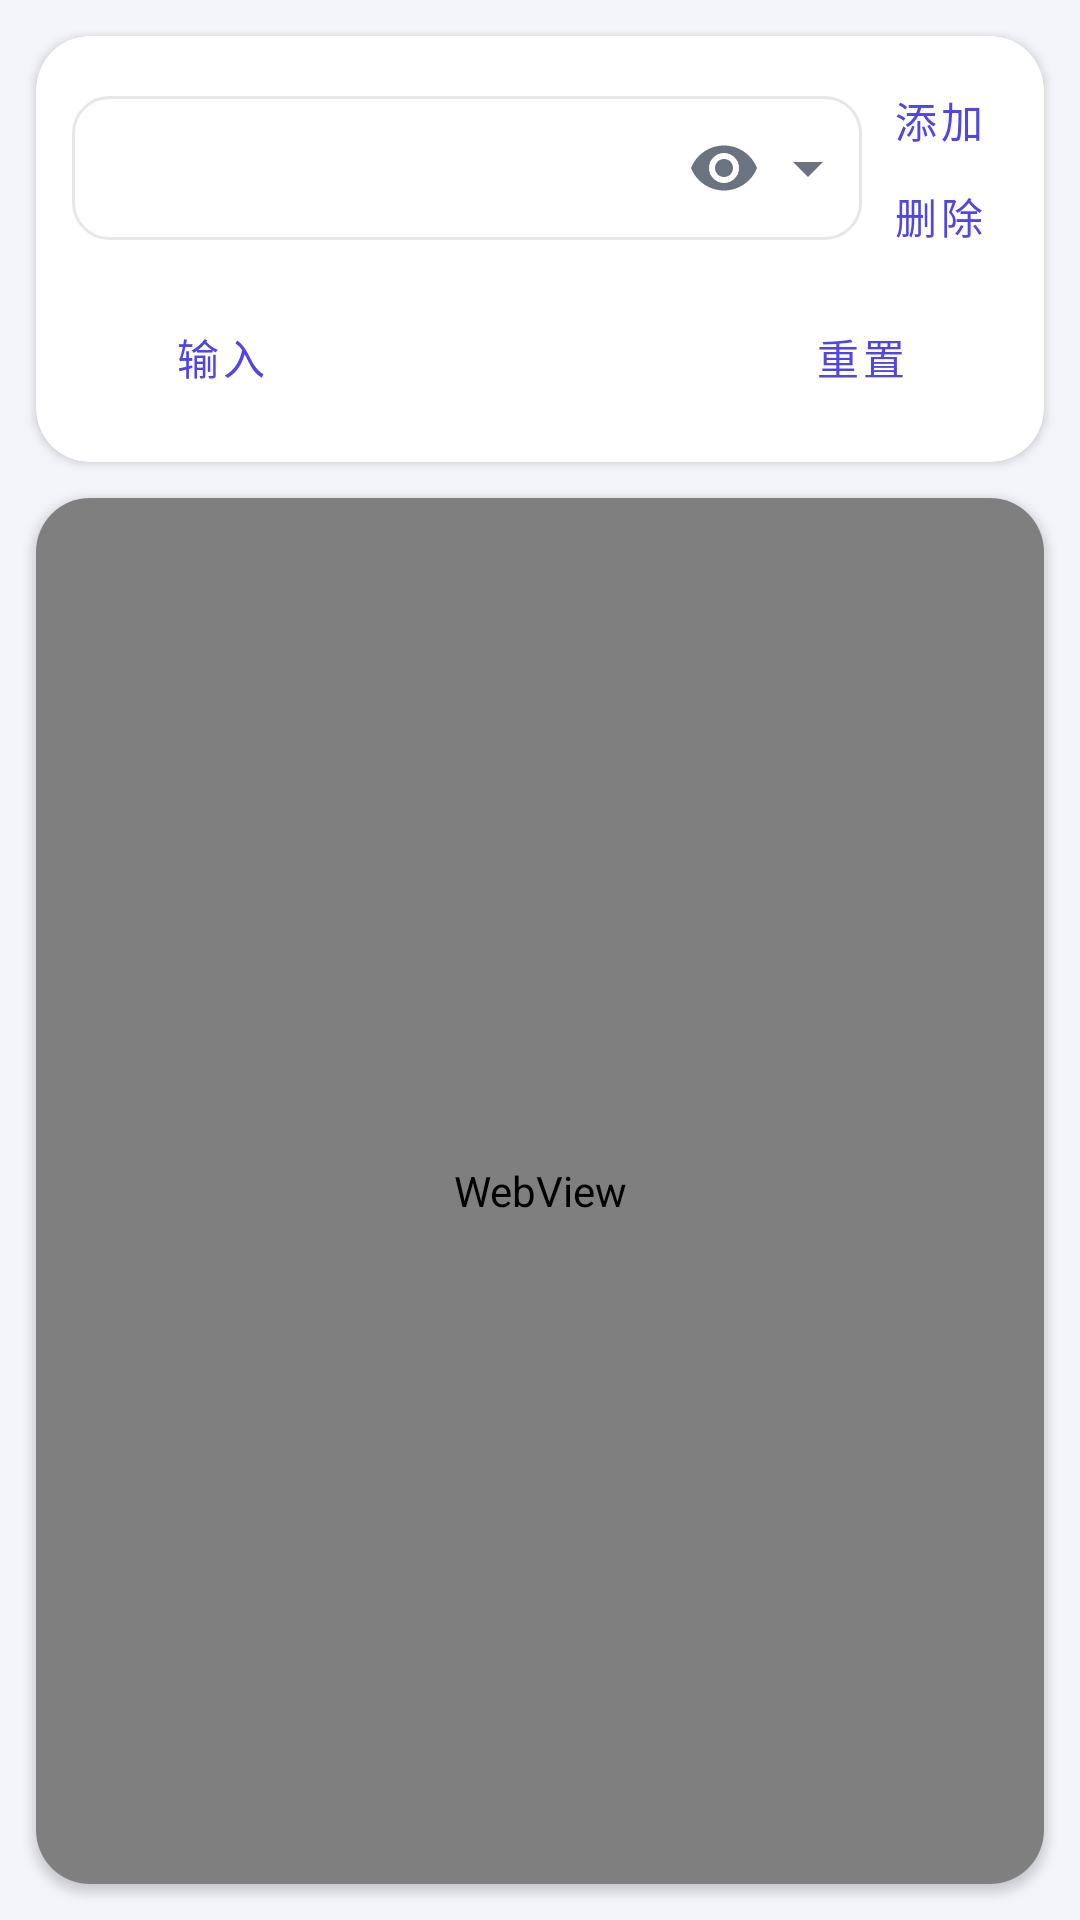

Icon bounding boxes for this 1080w x 1920h phone screenshot, format bbox(x1, y1, x2, y2):
chevron down: bbox(793, 162, 823, 177)
显示密码: bbox(691, 145, 757, 191)
